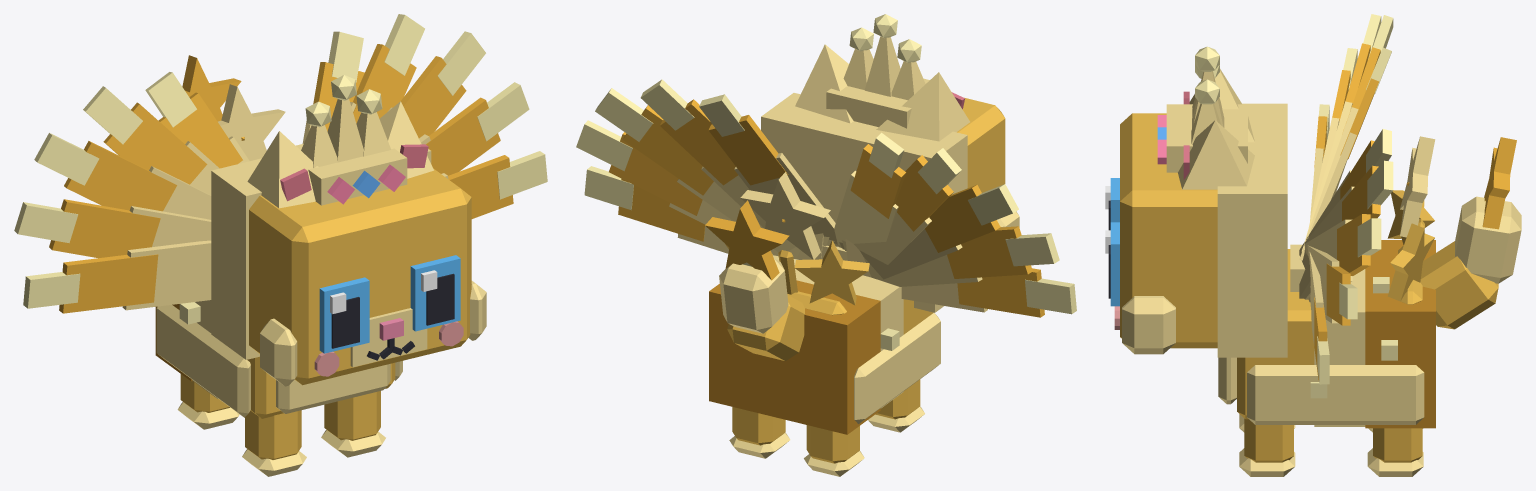
Rendered from CleanACat_Pet_Midas.fbx.
3 renders of one model, left to right at view 1: azimuth 30°, elevation 25°; view 2: azimuth 150°, elevation 25°; view 3: azimuth 270°, elevation 25°, orthographic. The views are drawn at different scales.
Parts seen in each view (by area): view 1: CleanACat_Pet_Midas_Wings_Glow, CleanACat_Pet_Midas_Head, CleanACat_Pet_Midas_Body, CleanACat_Pet_Midas_Prop2, CleanACat_Pet_Midas_Prop, CleanACat_Pet_Midas_Eye2, CleanACat_Pet_Midas_Eye1, CleanACat_Pet_Midas_LegF2, CleanACat_Pet_Midas_EarR, CleanACat_Pet_Midas_LegF1, CleanACat_Pet_Midas_Glow, CleanACat_Pet_Midas_Star3 (+3 smaller); view 2: CleanACat_Pet_Midas_Wings_Glow, CleanACat_Pet_Midas_Body, CleanACat_Pet_Midas_Prop2, CleanACat_Pet_Midas_Head, CleanACat_Pet_Midas_Tail, CleanACat_Pet_Midas_Prop, CleanACat_Pet_Midas_Star3, CleanACat_Pet_Midas_EarR, CleanACat_Pet_Midas_Star2, CleanACat_Pet_Midas_Tail_Star_Glow, CleanACat_Pet_Midas_LegB2, CleanACat_Pet_Midas_EarL (+3 smaller); view 3: CleanACat_Pet_Midas_Head, CleanACat_Pet_Midas_Body, CleanACat_Pet_Midas_Wings_Glow, CleanACat_Pet_Midas_Tail, CleanACat_Pet_Midas_Prop2, CleanACat_Pet_Midas_EarL, CleanACat_Pet_Midas_Prop, CleanACat_Pet_Midas_Star2, CleanACat_Pet_Midas_LegF1, CleanACat_Pet_Midas_LegB1, CleanACat_Pet_Midas_Star3, CleanACat_Pet_Midas_Tail_Star_Glow (+4 smaller).
Boxes of the visible parts, bbox=[...] form: CleanACat_Pet_Midas_Wings_Glow: bbox=[14, 14, 547, 313]; CleanACat_Pet_Midas_Head: bbox=[211, 149, 486, 386]; CleanACat_Pet_Midas_Body: bbox=[155, 300, 402, 418]; CleanACat_Pet_Midas_Prop2: bbox=[122, 102, 448, 310]; CleanACat_Pet_Midas_Prop: bbox=[296, 99, 407, 205]; CleanACat_Pet_Midas_Eye2: bbox=[319, 277, 369, 353]; CleanACat_Pet_Midas_Eye1: bbox=[410, 255, 460, 331]; CleanACat_Pet_Midas_LegF2: bbox=[242, 410, 306, 476]; CleanACat_Pet_Midas_EarR: bbox=[247, 131, 318, 208]; CleanACat_Pet_Midas_LegF1: bbox=[321, 391, 385, 457]; CleanACat_Pet_Midas_Glow: bbox=[305, 75, 405, 204]; CleanACat_Pet_Midas_Star3: bbox=[218, 84, 285, 160]; CleanACat_Pet_Midas_Wings_Glow: bbox=[576, 79, 1076, 317]; CleanACat_Pet_Midas_Body: bbox=[709, 255, 940, 434]; CleanACat_Pet_Midas_Prop2: bbox=[669, 153, 987, 312]; CleanACat_Pet_Midas_Head: bbox=[761, 93, 1019, 312]; CleanACat_Pet_Midas_Tail: bbox=[719, 258, 804, 360]; CleanACat_Pet_Midas_Prop: bbox=[826, 36, 929, 128]; CleanACat_Pet_Midas_Star3: bbox=[740, 172, 830, 294]; CleanACat_Pet_Midas_EarR: bbox=[876, 72, 969, 141]; CleanACat_Pet_Midas_Star2: bbox=[725, 240, 869, 315]; CleanACat_Pet_Midas_Tail_Star_Glow: bbox=[705, 200, 789, 280]; CleanACat_Pet_Midas_LegB2: bbox=[804, 425, 864, 476]; CleanACat_Pet_Midas_EarL: bbox=[795, 44, 853, 123]; CleanACat_Pet_Midas_Head: bbox=[1114, 103, 1287, 357]; CleanACat_Pet_Midas_Body: bbox=[1218, 240, 1435, 428]; CleanACat_Pet_Midas_Wings_Glow: bbox=[1314, 14, 1393, 384]; CleanACat_Pet_Midas_Tail: bbox=[1420, 196, 1521, 329]; CleanACat_Pet_Midas_Prop2: bbox=[1290, 101, 1358, 345]; CleanACat_Pet_Midas_EarL: bbox=[1178, 120, 1254, 189]; CleanACat_Pet_Midas_Prop: bbox=[1166, 71, 1247, 172]; CleanACat_Pet_Midas_Star2: bbox=[1387, 190, 1434, 304]; CleanACat_Pet_Midas_LegF1: bbox=[1239, 418, 1295, 476]; CleanACat_Pet_Midas_LegB1: bbox=[1367, 428, 1423, 476]; CleanACat_Pet_Midas_Star3: bbox=[1400, 136, 1435, 237]; CleanACat_Pet_Midas_Tail_Star_Glow: bbox=[1482, 137, 1516, 229].
Bounding box in the file's own units: 3.24 × 2.41 × 2.25.
Materials: 1 (1 with a texture image).
